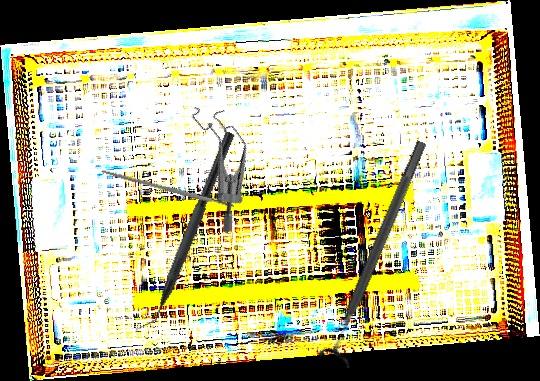Chopper: (133, 125, 236, 340)
Fixation Ring: (315, 135, 440, 369)
Scalpel Handle: (100, 168, 235, 210)
Speculum: (155, 94, 284, 235)
